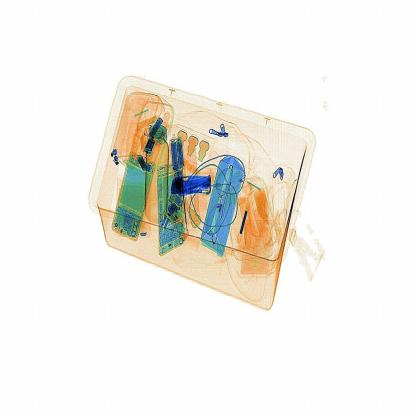knife: (168, 174, 215, 198)
